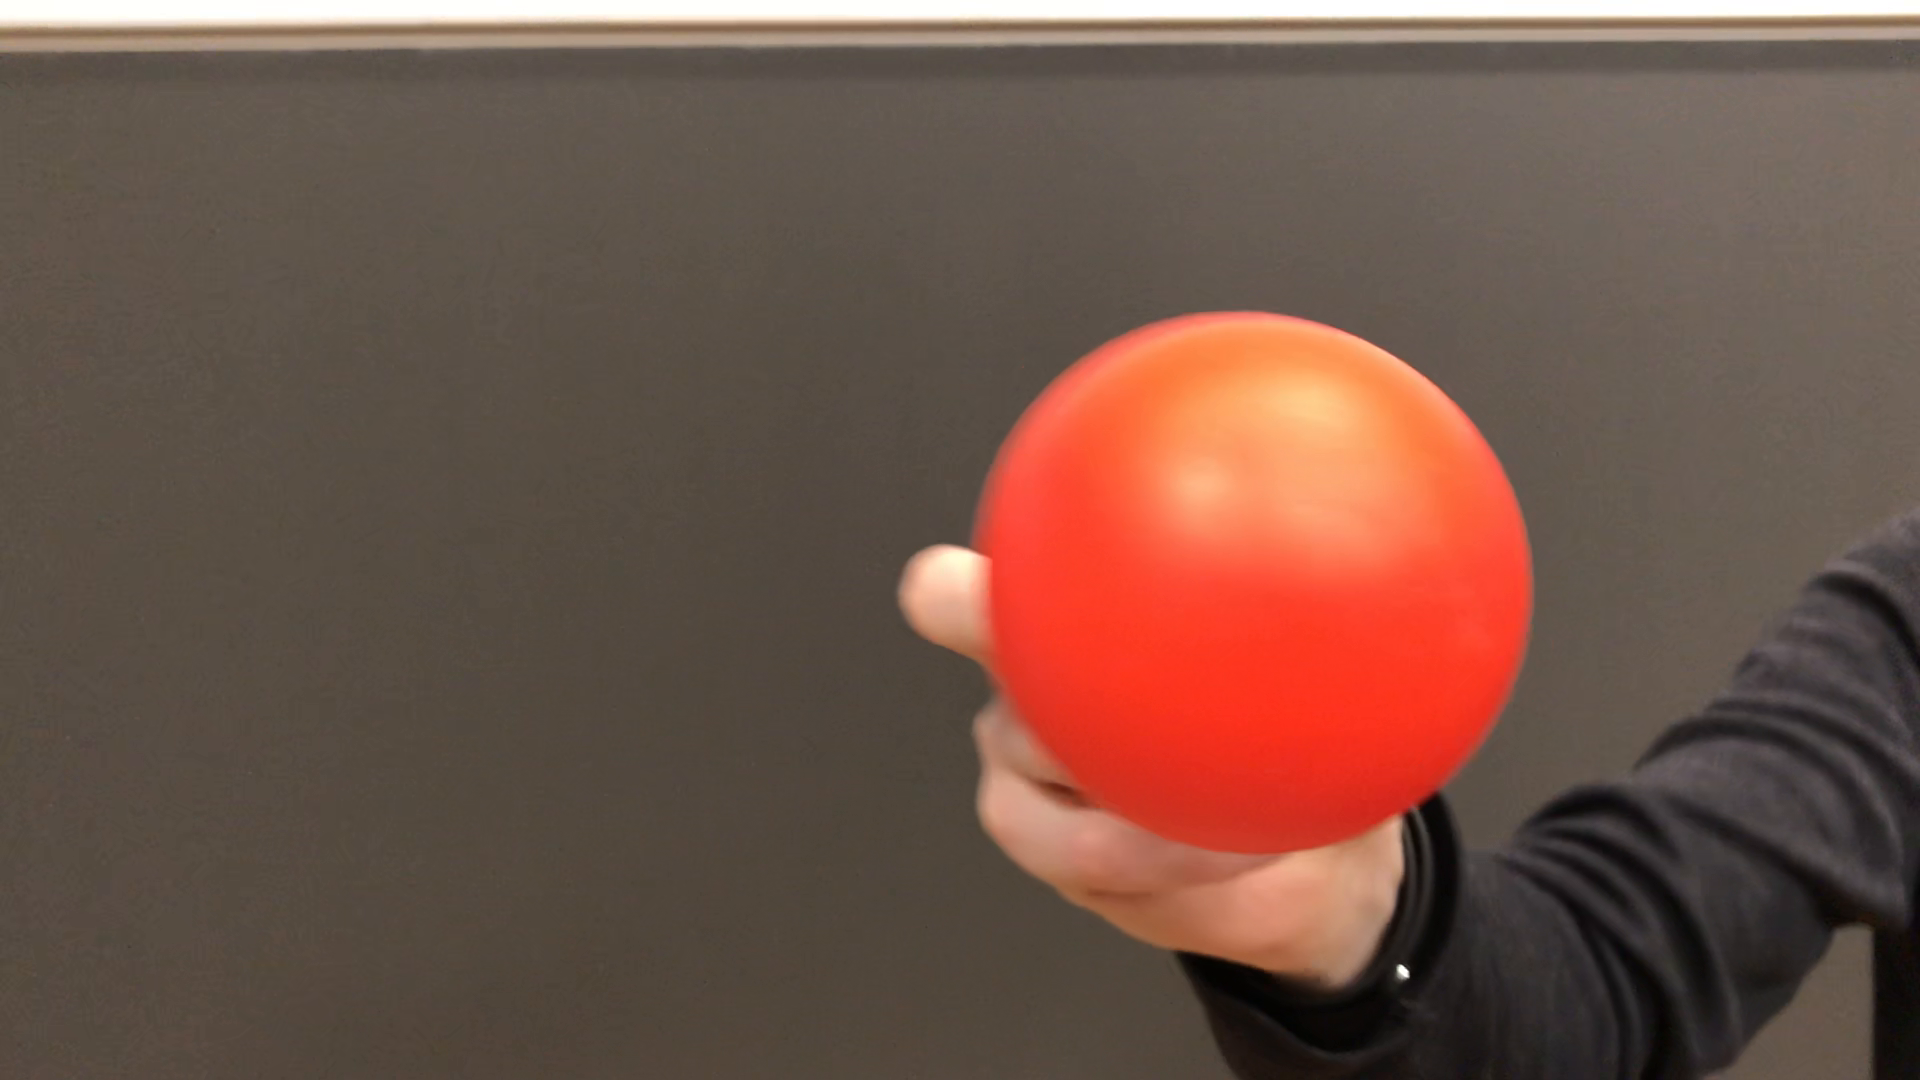Ball: (980, 301, 1530, 857)
